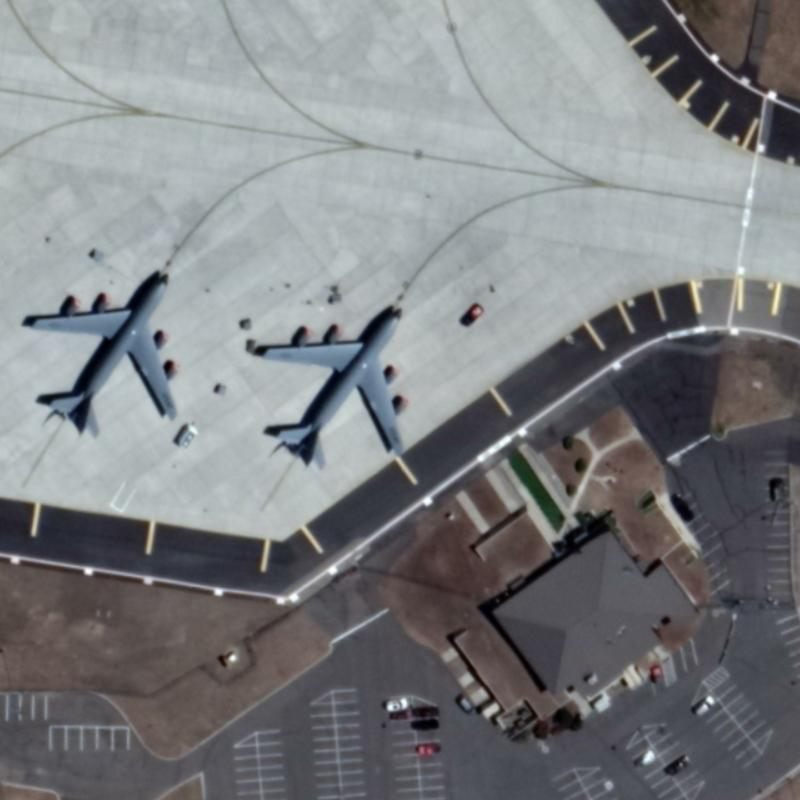A14: (249, 290, 420, 474), (19, 262, 188, 442)
